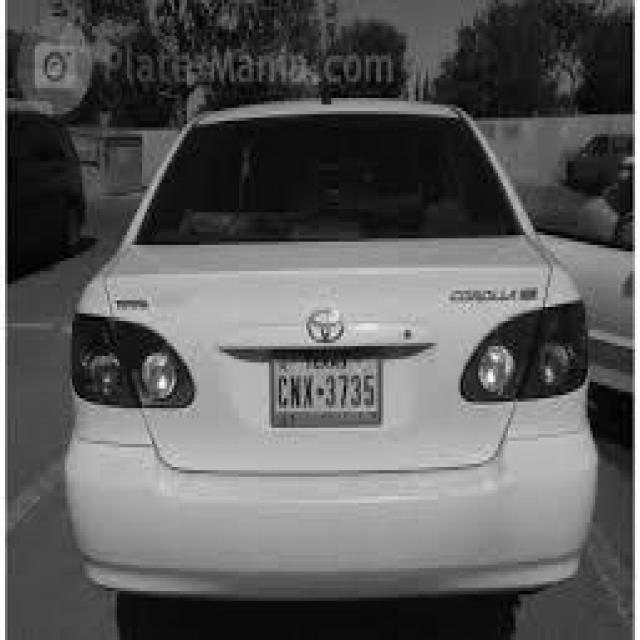car: (60, 98, 595, 627)
license-plate: (271, 346, 381, 431)
